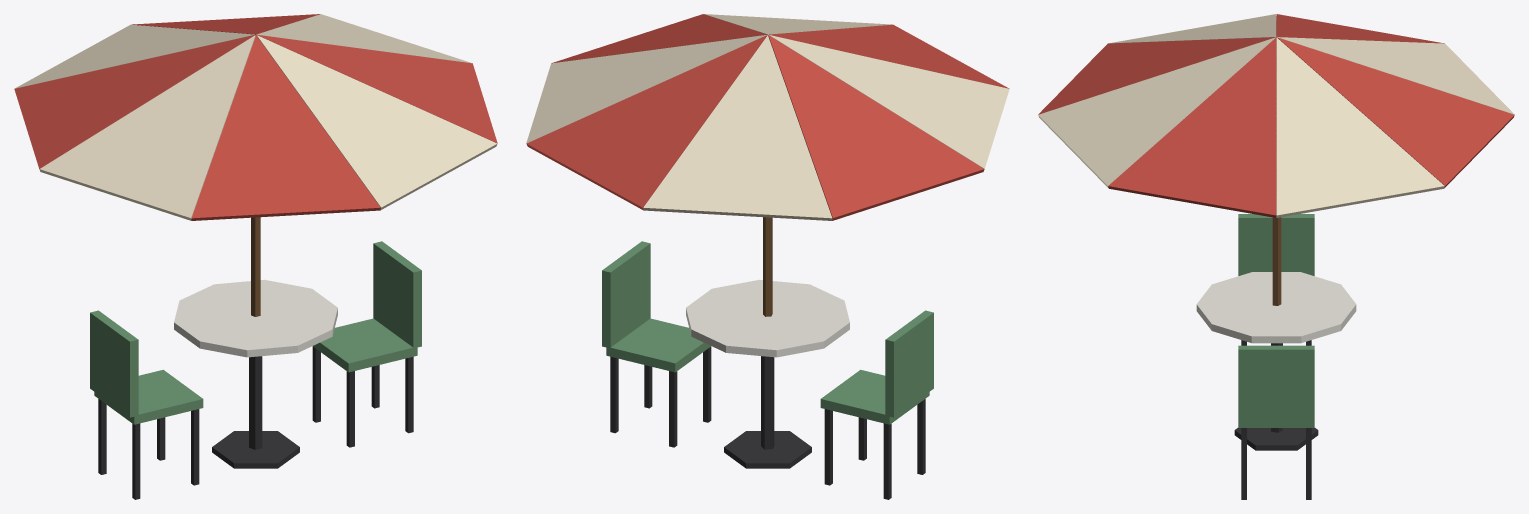
File: cafe_table.glb
3 views of the same model, side by side, from view 1: azimuth 30°, elevation 25°; view 2: azimuth 150°, elevation 25°; view 3: azimuth 270°, elevation 25° (orthographic). The views are drawn at different scales.
Parts seen in each view (by area): view 1: cafe_table; view 2: cafe_table; view 3: cafe_table.
Boxes of the visible parts, x1,y1,x2,y2 form: cafe_table: (14, 14, 497, 499); cafe_table: (526, 14, 1009, 499); cafe_table: (1038, 14, 1514, 499).
Bounding box in the file's own units: 2.51 × 2.31 × 2.51.
